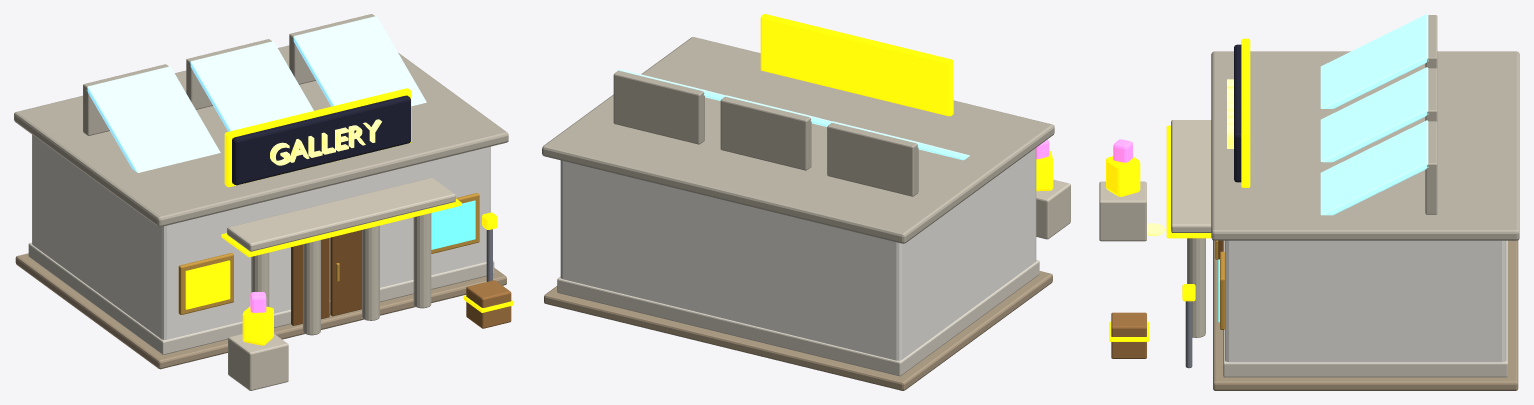
File: gallery-hall-B0IzLQgD.glb
3 renders of one model, left to right at view 1: azimuth 30°, elevation 25°; view 2: azimuth 150°, elevation 25°; view 3: azimuth 270°, elevation 25°, orthographic. The views are drawn at different scales.
Parts seen in each view (by area): view 1: hall, cornice, tooth_glass_0, sign_board, tooth_glass_2, tooth_glass_1, canopy, plinth, base_band, art_plinth, door_r, sign_rim (+16 smaller); view 2: hall, cornice, sign_rim, plinth, base_band, tooth_back_2, tooth_back_1, tooth_back_0, art_plinth, art_a, tooth_glass_0; view 3: cornice, hall, plinth, tooth_glass_1, tooth_glass_2, tooth_glass_0, base_band, canopy, art_plinth, column_3, crate, sign_rim (+10 smaller).
Part boxes in pixels (left/top/right/bottom): hall: left=32, top=134, right=490, bottom=339; cornice: left=14, top=45, right=508, bottom=226; tooth_glass_0: left=86, top=66, right=220, bottom=172; sign_board: left=232, top=95, right=410, bottom=185; tooth_glass_2: left=293, top=16, right=426, bottom=106; tooth_glass_1: left=190, top=41, right=313, bottom=131; canopy: left=227, top=177, right=455, bottom=251; plinth: left=15, top=253, right=506, bottom=369; base_band: left=28, top=242, right=494, bottom=354; art_plinth: left=228, top=334, right=288, bottom=390; door_r: left=330, top=230, right=361, bottom=316; sign_rim: left=224, top=88, right=411, bottom=187; hall: left=560, top=148, right=1036, bottom=360; cornice: left=542, top=37, right=1054, bottom=243; sign_rim: left=760, top=14, right=953, bottom=116; plinth: left=544, top=271, right=1052, bottom=390; base_band: left=557, top=260, right=1039, bottom=376; tooth_back_2: left=613, top=70, right=704, bottom=144; tooth_back_1: left=720, top=97, right=811, bottom=170; tooth_back_0: left=827, top=123, right=918, bottom=196; art_plinth: left=1036, top=179, right=1070, bottom=239; art_a: left=1036, top=151, right=1053, bottom=191; tooth_glass_0: left=831, top=121, right=969, bottom=160; cornice: left=1211, top=51, right=1519, bottom=240; hall: left=1225, top=240, right=1506, bottom=362; plinth: left=1213, top=240, right=1518, bottom=390; tooth_glass_1: left=1320, top=67, right=1428, bottom=162; tooth_glass_2: left=1320, top=120, right=1428, bottom=215; tooth_glass_0: left=1320, top=14, right=1428, bottom=108; base_band: left=1223, top=240, right=1507, bottom=377; canopy: left=1171, top=120, right=1211, bottom=232; art_plinth: left=1099, top=181, right=1146, bottom=241; column_3: left=1187, top=238, right=1205, bottom=337; crate: left=1111, top=312, right=1146, bottom=358; sign_rim: left=1241, top=38, right=1250, bottom=187.
Bounding box in the file's own units: 14.3 × 8 × 14.05.
